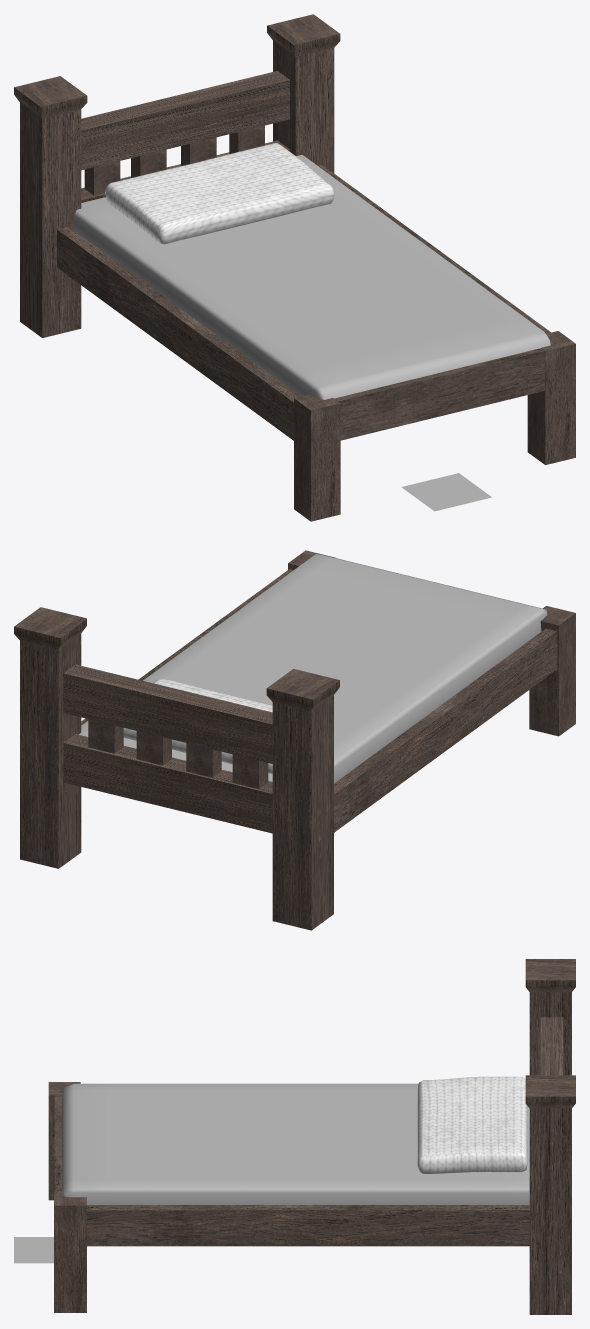
Rendered from cama.fbx.
The picture shows the model from 3 angles, top to bottom: view 1: azimuth 30°, elevation 25°; view 2: azimuth 150°, elevation 25°; view 3: azimuth 270°, elevation 25°; orthographic projection. The views are drawn at different scales.
Visible parts, largest first — view 1: pCube24, pCube1, polySurface5, pCube15, polySurface3, pCube2, polySurface1, polySurface2, pPlane4, polySurface4, pCube13, pCube17 (+2 smaller); view 2: pCube24, pCube1, pCube2, polySurface5, pCube15, pCube18, polySurface1, pCube13, pCube17, pCube14, pCube16, polySurface4; view 3: pCube24, polySurface4, pCube2, pCube1, polySurface2, pCube15, pPlane4, polySurface1, polySurface3.
Boxes of the visible parts, <box> form: pCube24: <box>73,143,550,399</box>; pCube1: <box>14,76,87,337</box>; polySurface5: <box>57,226,299,440</box>; pCube15: <box>81,71,289,170</box>; polySurface3: <box>334,348,544,440</box>; pCube2: <box>267,14,340,172</box>; polySurface1: <box>294,393,340,521</box>; polySurface2: <box>527,331,575,464</box>; pPlane4: <box>401,473,491,511</box>; polySurface4: <box>318,165,550,333</box>; pCube13: <box>84,161,120,195</box>; pCube17: <box>181,137,216,165</box>; pCube24: <box>79,554,547,783</box>; pCube1: <box>266,669,339,930</box>; pCube2: <box>14,607,86,868</box>; polySurface5: <box>334,628,557,832</box>; pCube15: <box>63,664,272,763</box>; pCube18: <box>63,734,272,833</box>; polySurface1: <box>529,606,575,736</box>; pCube13: <box>232,754,268,788</box>; pCube17: <box>136,731,171,765</box>; pCube14: <box>88,719,123,753</box>; pCube16: <box>186,743,221,777</box>; polySurface4: <box>81,569,293,725</box>; pCube24: <box>62,1076,529,1204</box>; polySurface4: <box>87,1205,529,1246</box>; pCube2: <box>525,1075,575,1314</box>; pCube1: <box>525,959,575,1075</box>; polySurface2: <box>54,1191,86,1312</box>; pCube15: <box>540,1017,563,1075</box>; pPlane4: <box>14,1237,53,1263</box>; polySurface1: <box>48,1082,80,1200</box>; polySurface3: <box>54,1096,62,1191</box>.
Size of the model in its own units: 5.18 by 3.92 by 8.94.
